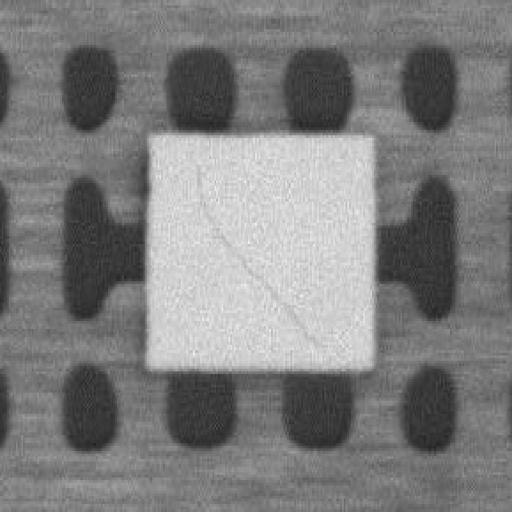DIE_CRACK: (191, 165, 328, 350)
